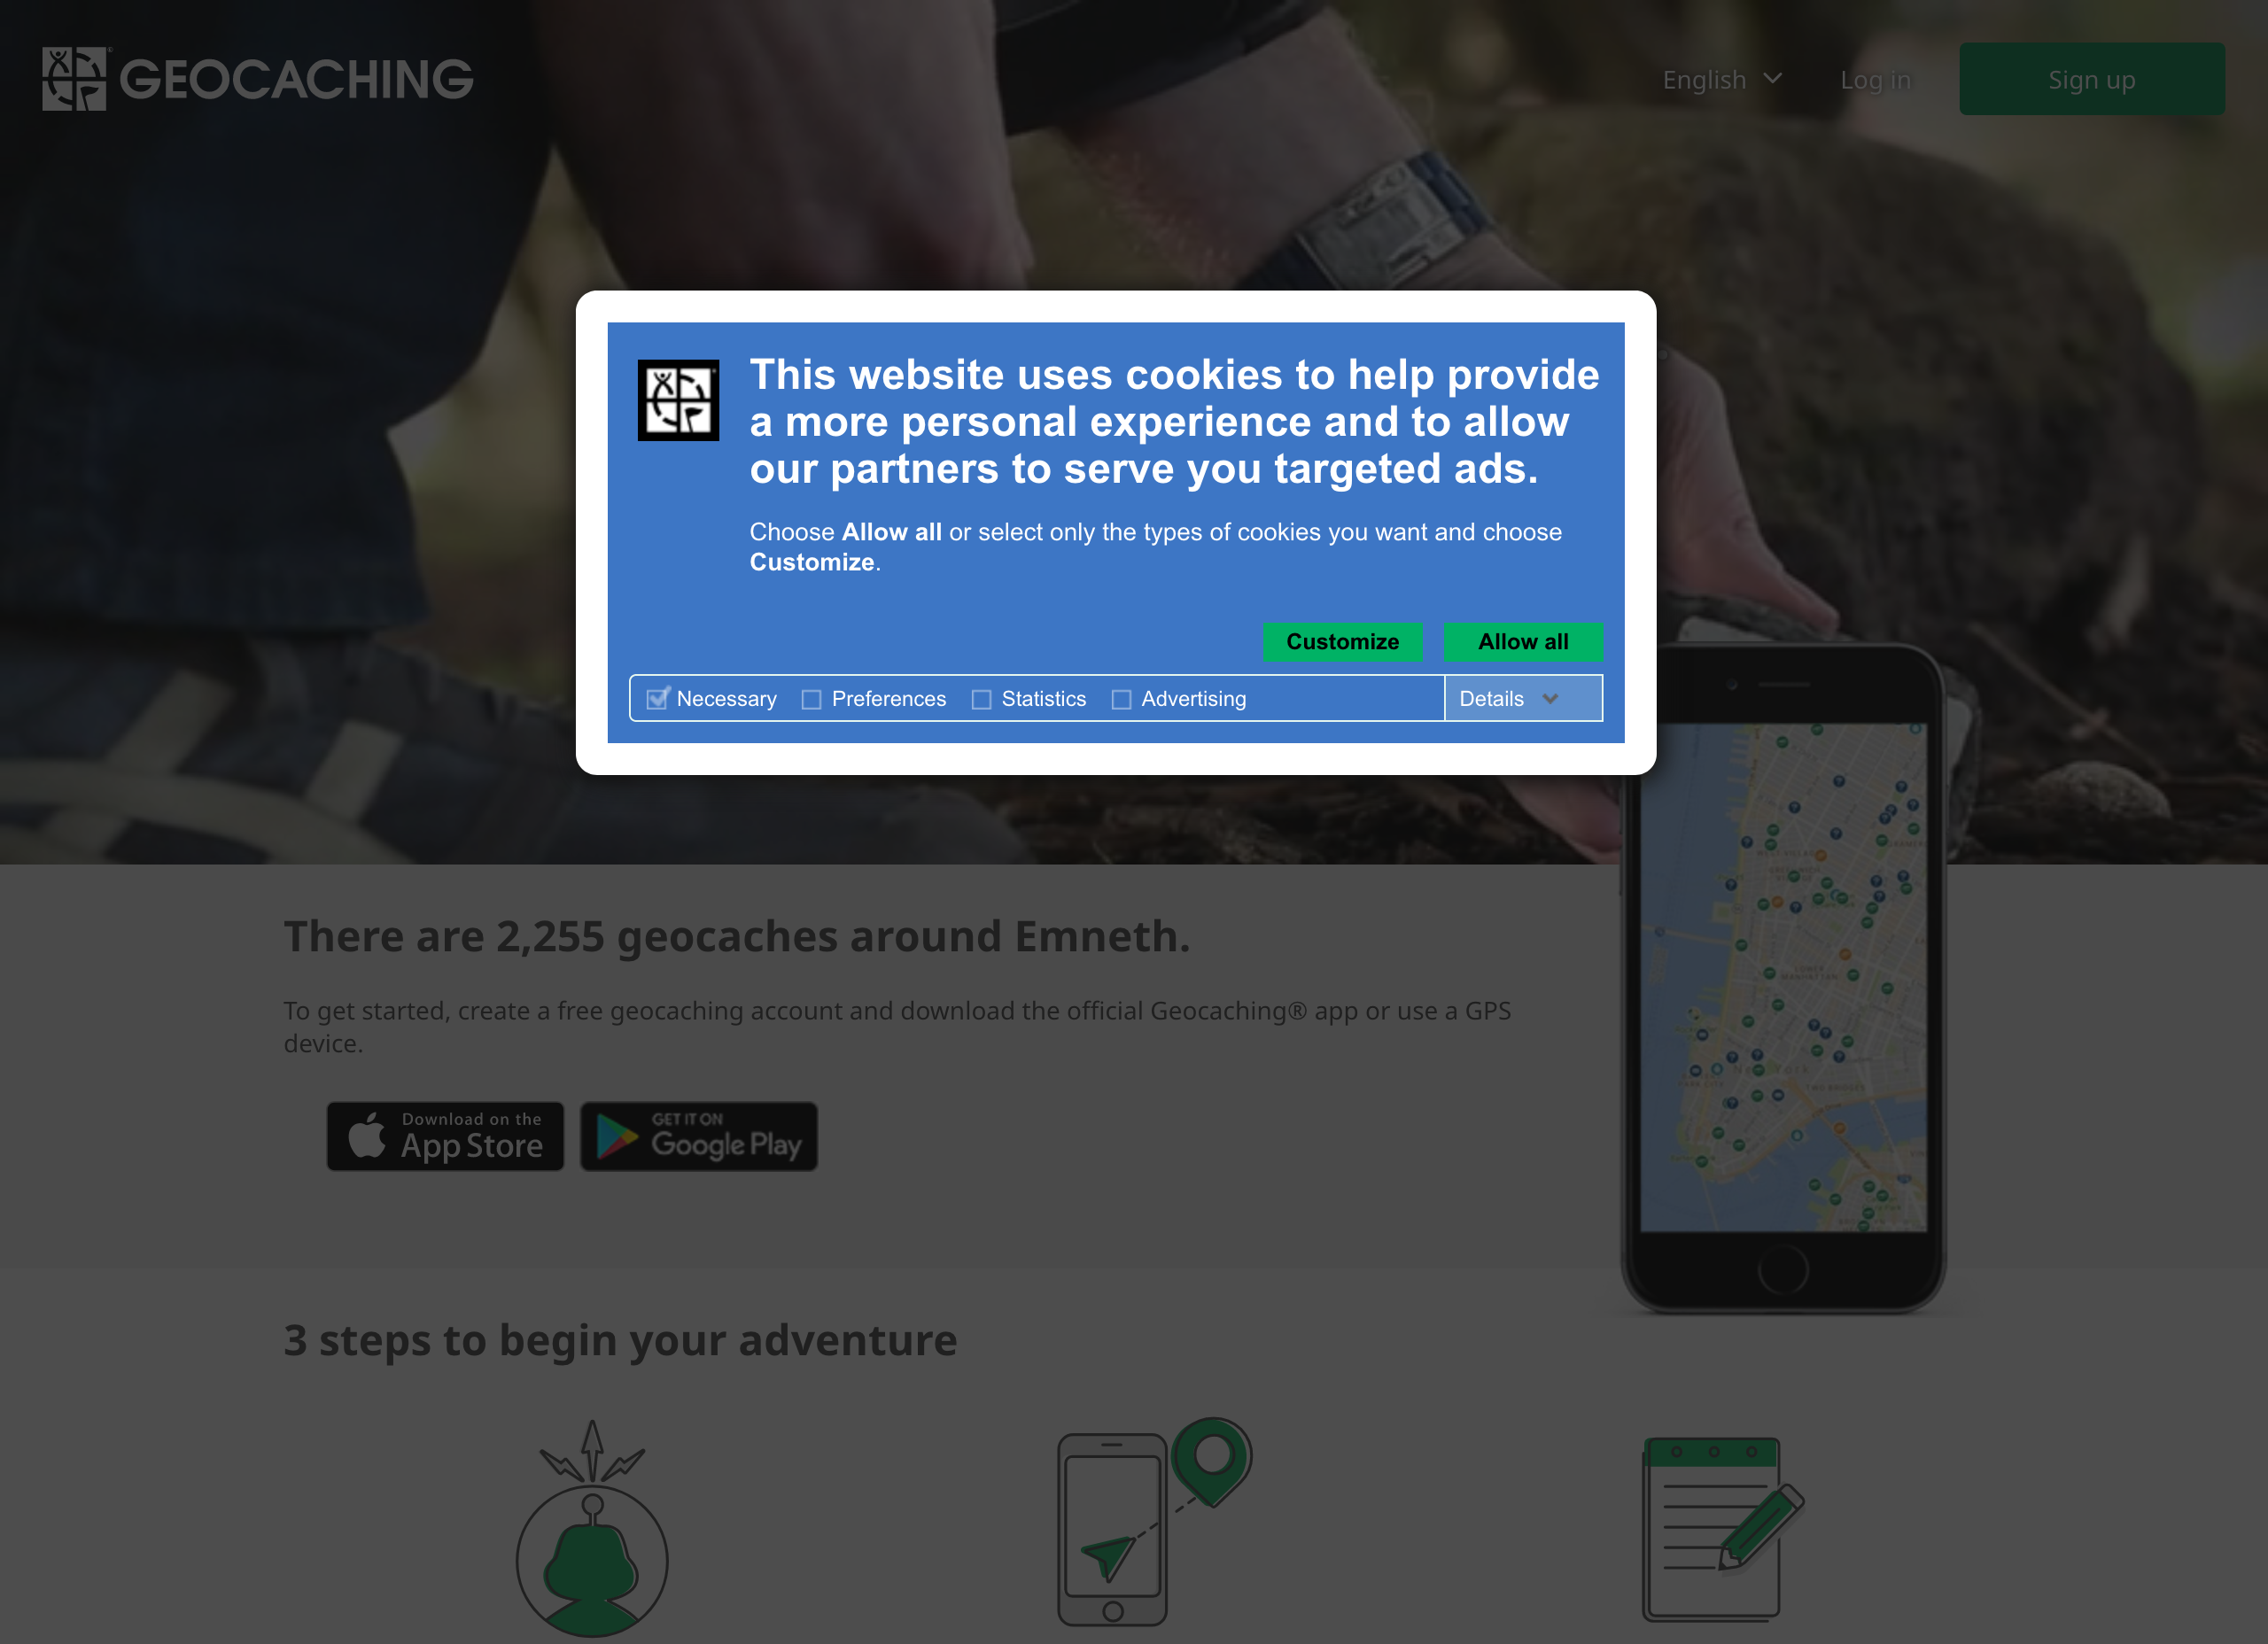Login: (1824, 42, 1939, 120)
